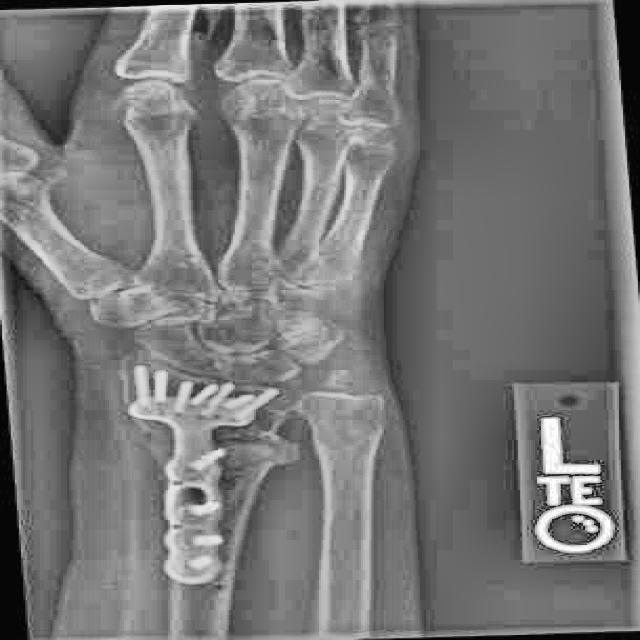fingers positive: (124, 417, 345, 493)
